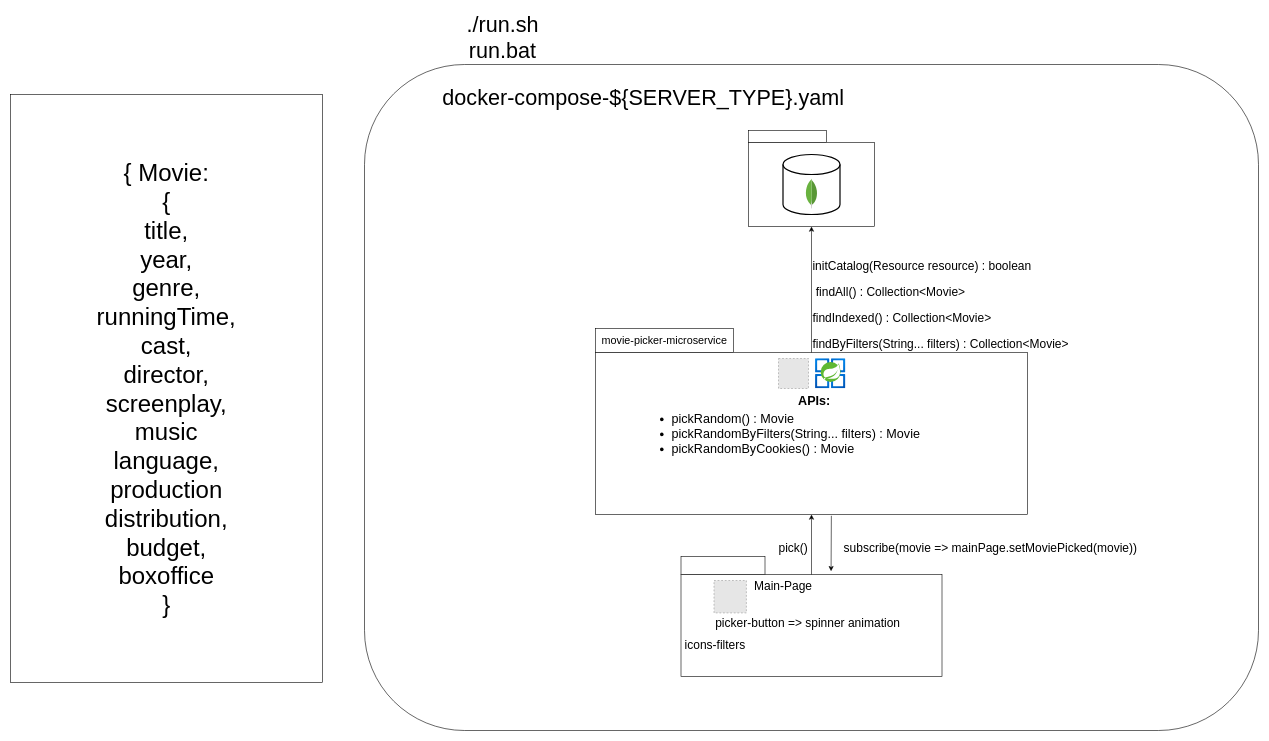
This 1269x741 diagram has some shape labels left out. Grey dashed boxes stand in for pictures. Here are the shapes that lost their labels. From the top down, the centre of each, then its label:
At (x=787, y=136): "movies-catalog".
At (x=722, y=565): "movie-picker-page".
